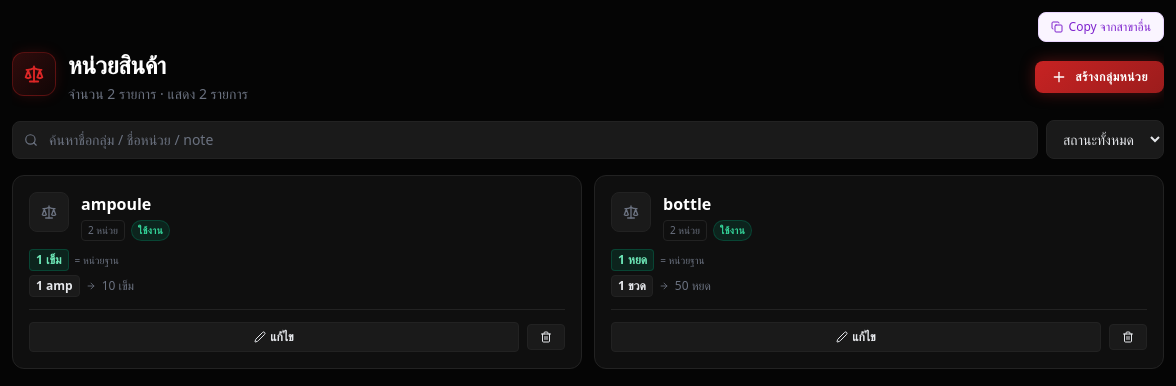
Test: ProductUnitsTab — PUT1..PUT8 › PUT3: search matches unit names (not just groupName)
The width and height of the screenshot is (1176, 386).
Expected: the heading "ampoule" is shown, [81,193,151,215]
Type "ขวด" into the field with placeholder "ค้นหาชื่อกลุ่ม / ชื่อหน่วย / note". click: coordinates (525, 140)
box: [12,120,1038,158]
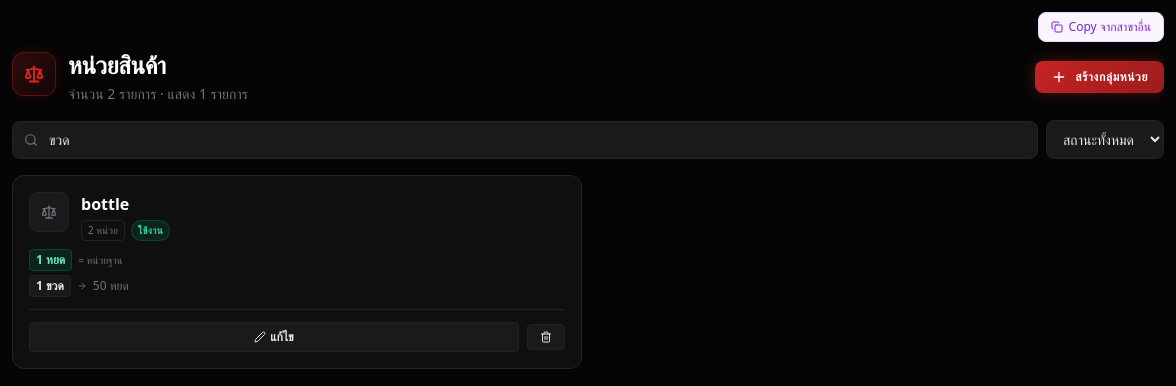
Expected: the heading "bottle" is shown, [81,193,129,215]
Now the heading "ampoule" is gone
